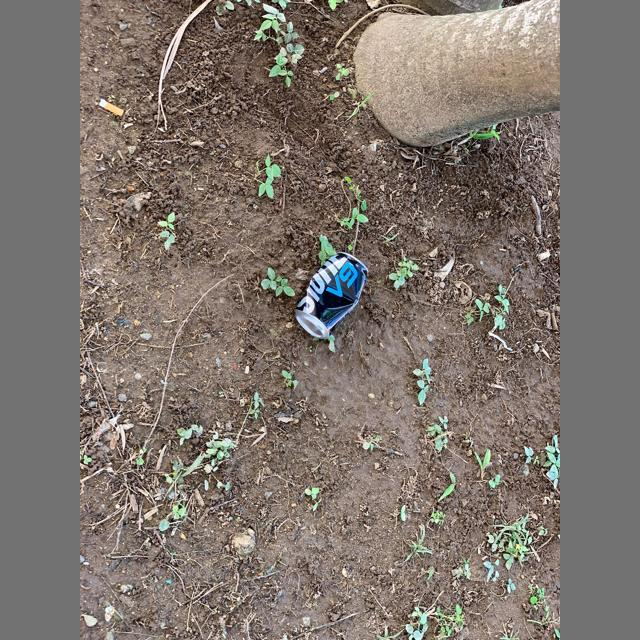litter: (295, 252, 368, 339), (98, 98, 124, 116)
